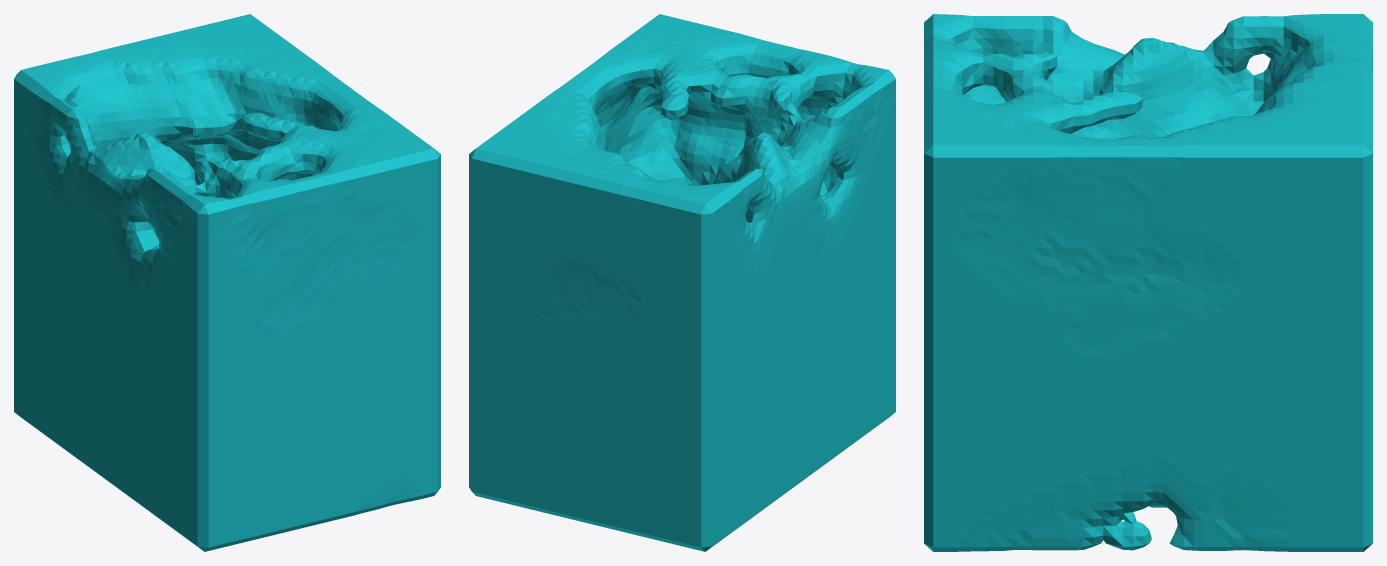
3 renders of one model, left to right at view 1: azimuth 30°, elevation 25°; view 2: azimuth 150°, elevation 25°; view 3: azimuth 270°, elevation 25°, orthographic. The views are drawn at different scales.
Visible parts, largest first — view 1: Liquid_Domain; view 2: Liquid_Domain; view 3: Liquid_Domain.
Part boxes in pixels (x1,y1,x2,y2): Liquid_Domain: (14, 14, 440, 551); Liquid_Domain: (469, 14, 895, 551); Liquid_Domain: (924, 14, 1372, 551).
Bounding box in the file's own units: 79.09 × 108 × 108.
